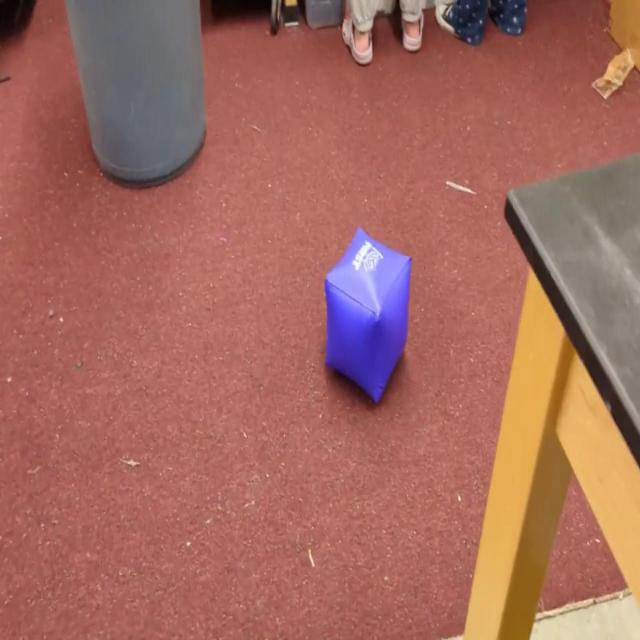frc_cube: (323, 229, 413, 407)
